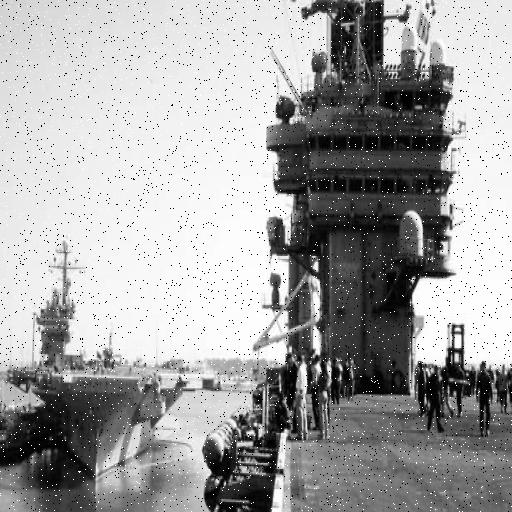Portanaves: (1, 228, 224, 512)
